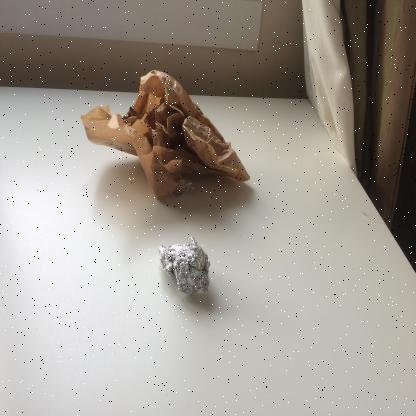metal: (156, 234, 212, 304)
paper: (79, 70, 252, 204)
